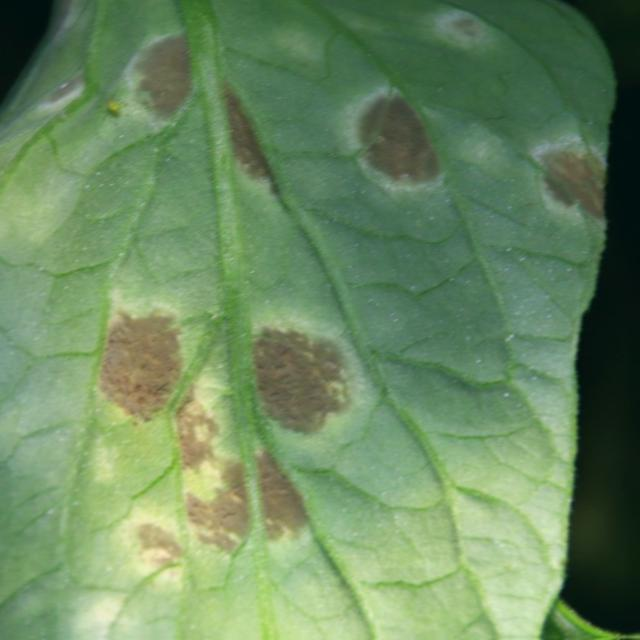Tomato mold leaf: (0, 0, 624, 640)
